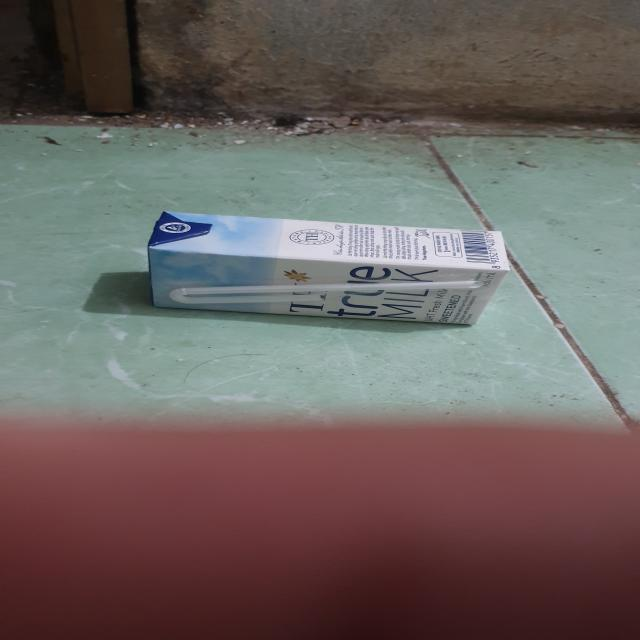TH: (144, 206, 522, 330)
